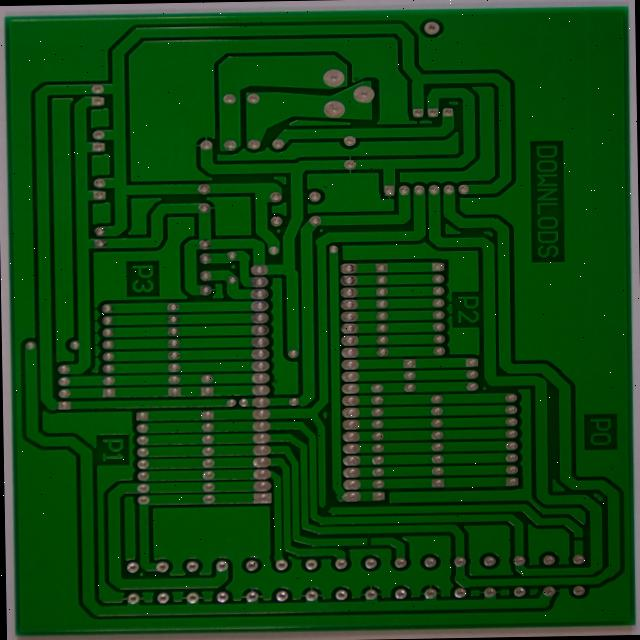open_circuit: (324, 496, 343, 514), (581, 531, 599, 544), (368, 533, 382, 546)
